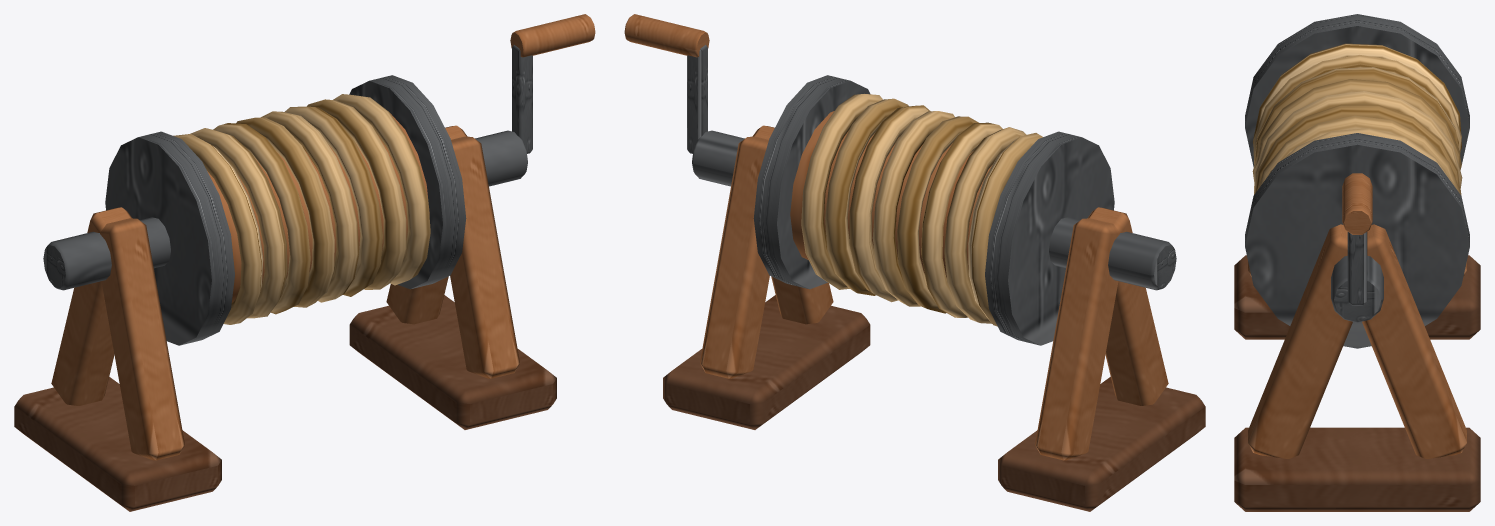
File: SM_Winch.glb
3 renders of one model, left to right at view 1: azimuth 30°, elevation 25°; view 2: azimuth 150°, elevation 25°; view 3: azimuth 270°, elevation 25°, orthographic. The views are drawn at different scales.
Parts seen in each view (by area): view 1: SM_Winch; view 2: SM_Winch; view 3: SM_Winch.
Boxes of the visible parts, bbox=[...] form: SM_Winch: bbox=[14, 14, 595, 511]; SM_Winch: bbox=[624, 14, 1205, 511]; SM_Winch: bbox=[1234, 14, 1480, 511].
Bounding box in the file's own units: 1.85 × 1.1 × 0.7.
Materials: 1 (1 with a texture image).
